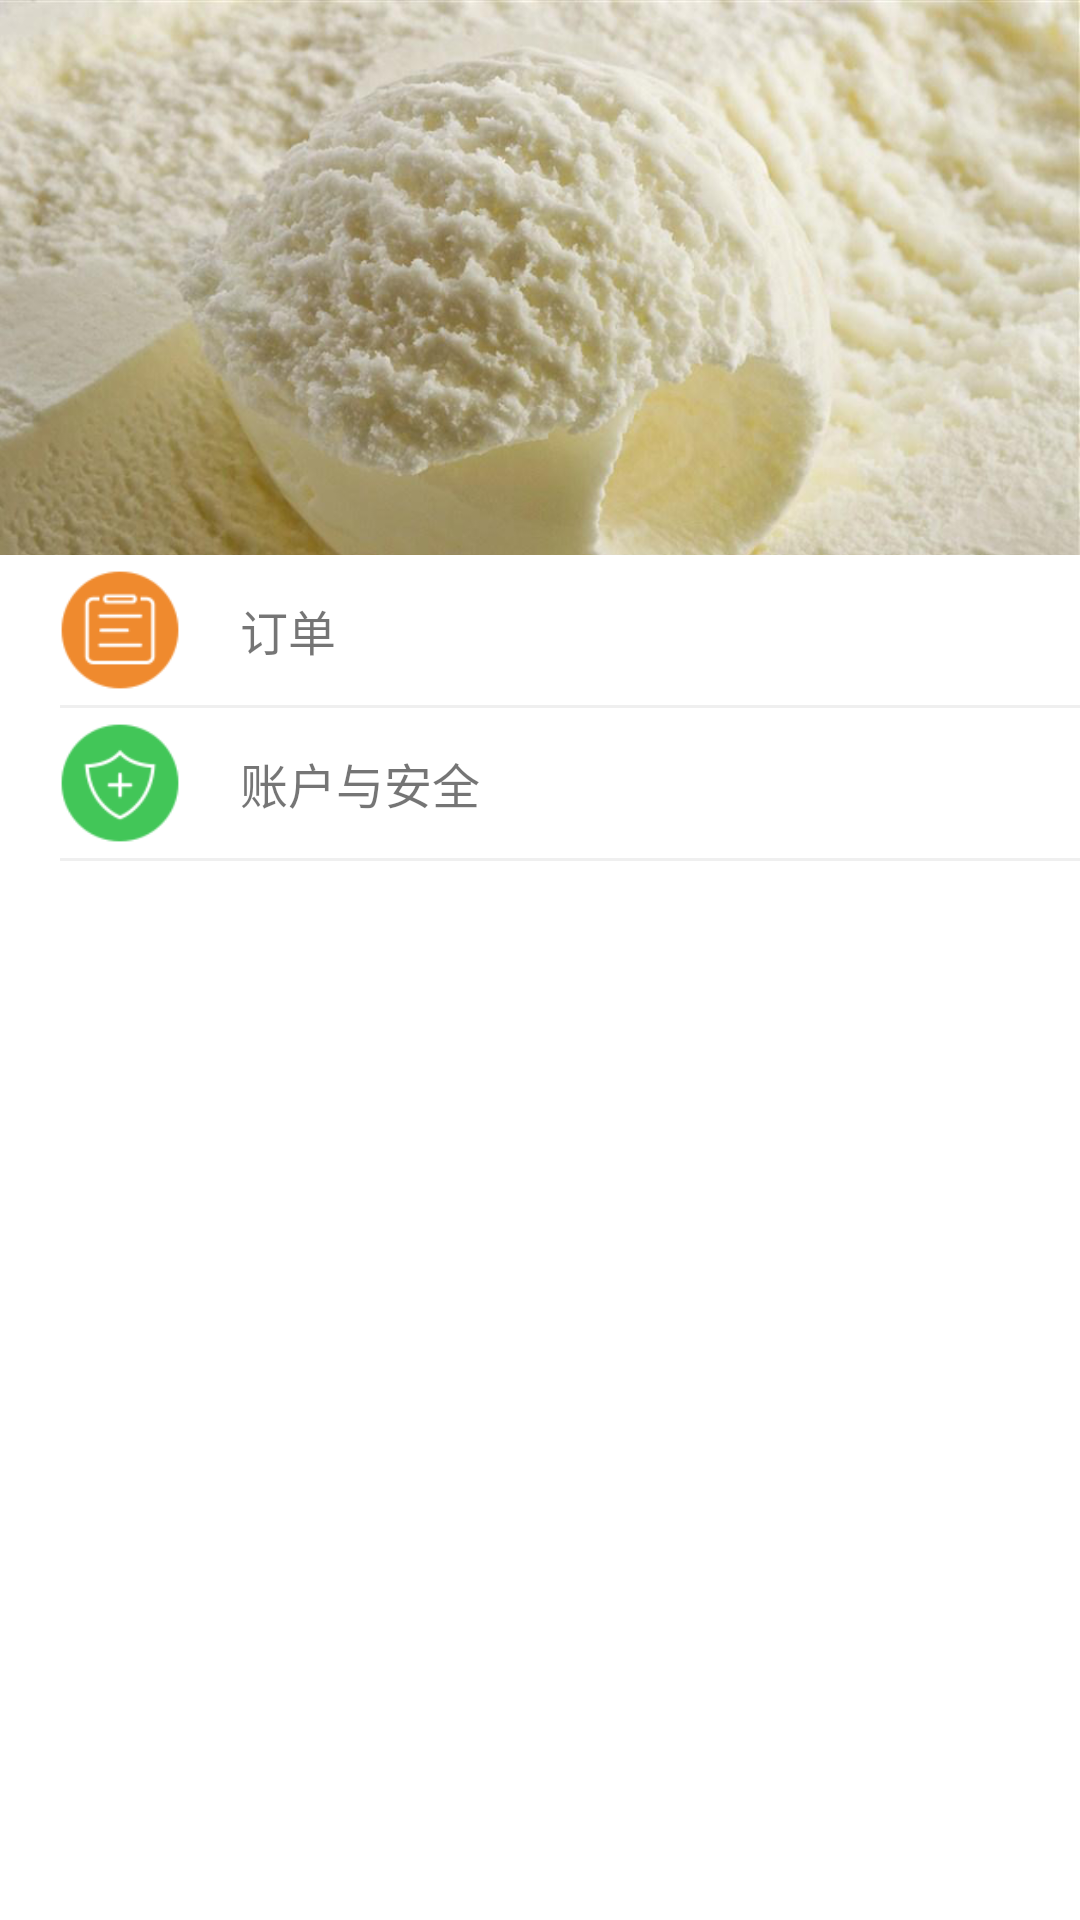

Where to tap for icons on this 1080x1920 app screen, as [x,y]:
account security: [120,783]
order list: [120,630]
